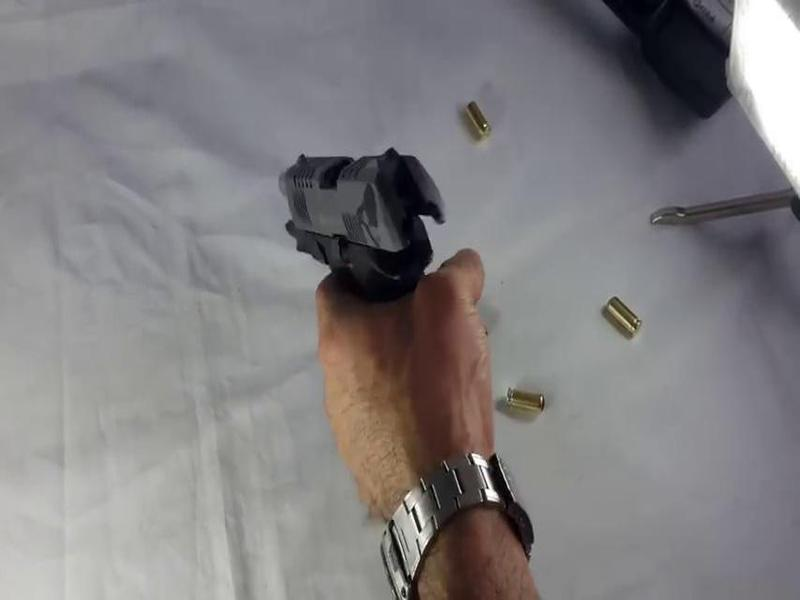Pistola: (248, 122, 469, 350)
